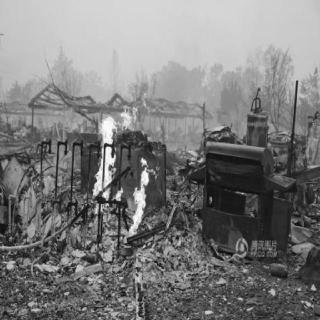Fire: (96, 88, 158, 234)
